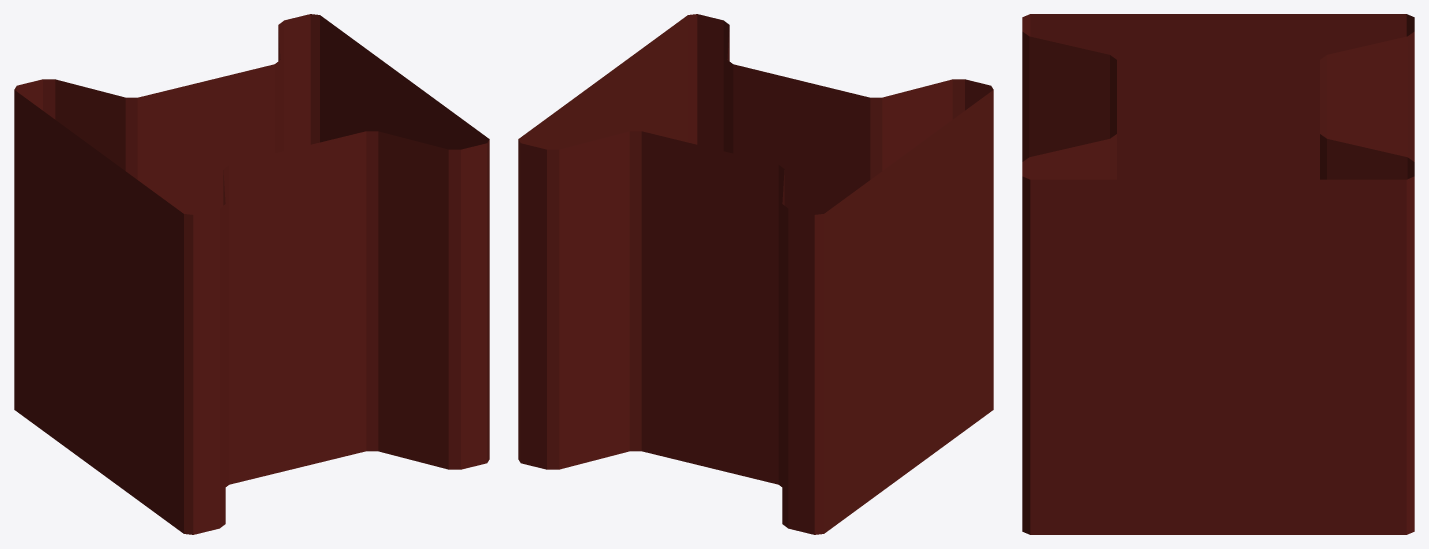
Rendered from sm_steelbeam_noBolts.fbx.
3 views of the same model, side by side, from view 1: azimuth 30°, elevation 25°; view 2: azimuth 150°, elevation 25°; view 3: azimuth 270°, elevation 25° (orthographic). The views are drawn at different scales.
Visible parts, largest first — view 1: steelbeam_noBolts; view 2: steelbeam_noBolts; view 3: steelbeam_noBolts.
Boxes of the visible parts, x1,y1,x2,y2 form: steelbeam_noBolts: (14, 14, 489, 534); steelbeam_noBolts: (518, 14, 993, 534); steelbeam_noBolts: (1022, 14, 1414, 534).
Size of the model in its own units: 100 by 100 by 100.
